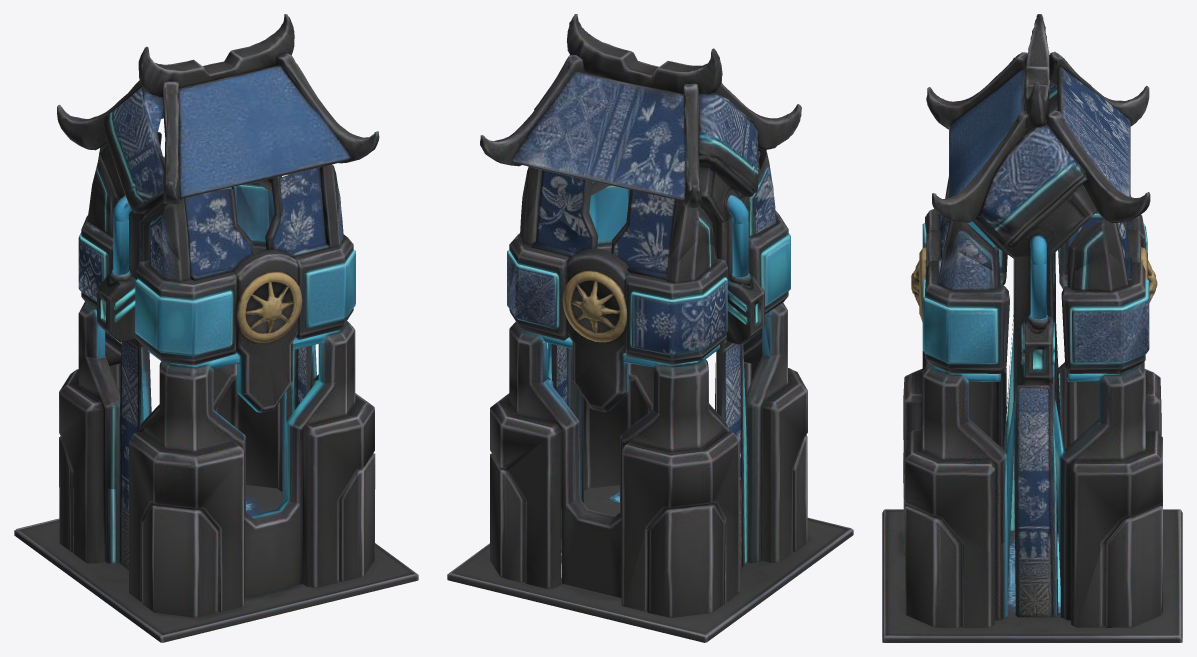
Rendered from spectrum_prism.glb.
3 renders of one model, left to right at view 1: azimuth 30°, elevation 25°; view 2: azimuth 150°, elevation 25°; view 3: azimuth 270°, elevation 25°, orthographic.
Visible parts, largest first — view 1: Body, Turret, Trim; view 2: Body, Turret, Trim; view 3: Body, Turret, Trim.
Part boxes in pixels (<box>): Body: <box>14,174,418,642</box>; Turret: <box>57,14,379,260</box>; Trim: <box>78,183,355,518</box>; Body: <box>447,181,853,642</box>; Turret: <box>480,14,801,260</box>; Trim: <box>507,185,790,603</box>; Body: <box>882,179,1182,642</box>; Turret: <box>926,14,1150,270</box>; Trim: <box>922,214,1179,635</box>.
Size of the model in its own units: 3.44 by 6.68 by 3.41.
Materials: 2 (2 with a texture image).
